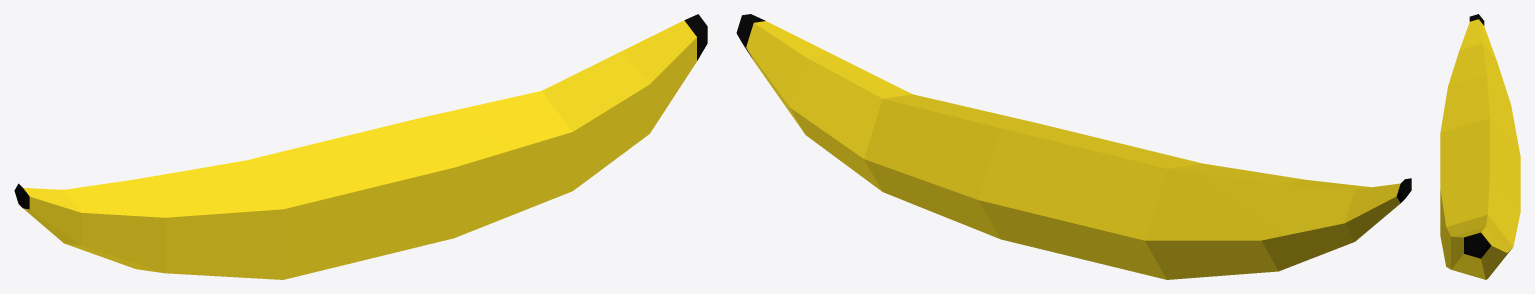
Rendered from Banana.fbx.
The picture shows the model from 3 angles, left to right: view 1: azimuth 30°, elevation 25°; view 2: azimuth 150°, elevation 25°; view 3: azimuth 270°, elevation 25°; orthographic projection. The views are drawn at different scales.
Parts seen in each view (by area): view 1: Banana; view 2: Banana; view 3: Banana.
Part boxes in pixels (box(x1,y1,x2,y2)): Banana: box(14, 14, 707, 279); Banana: box(736, 14, 1411, 279); Banana: box(1440, 14, 1520, 279).
Bounding box in the file's own units: 583 × 129 × 88.93.
